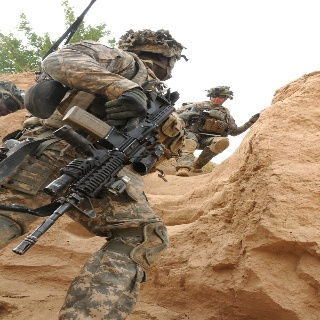shotgun: (12, 102, 179, 256)
